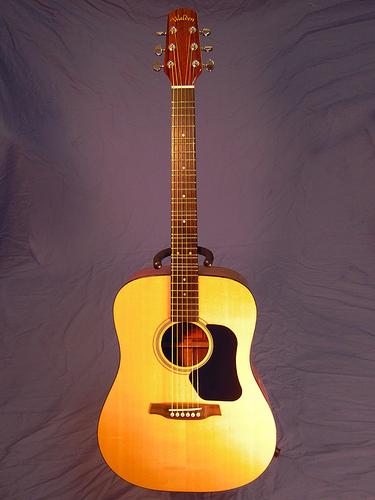guitar: (94, 3, 279, 493)
